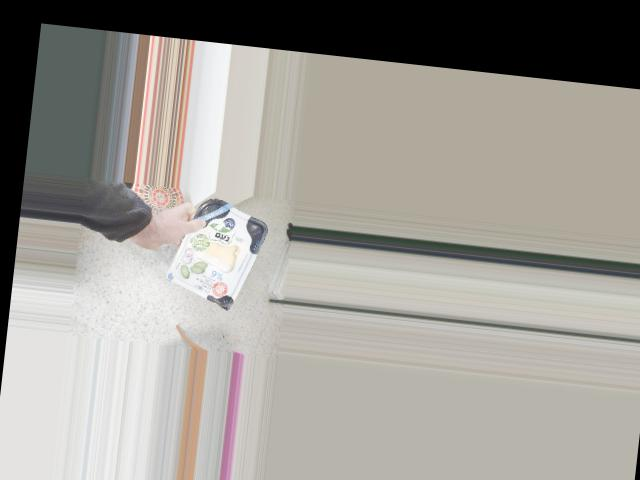cheese: (175, 206, 257, 301)
